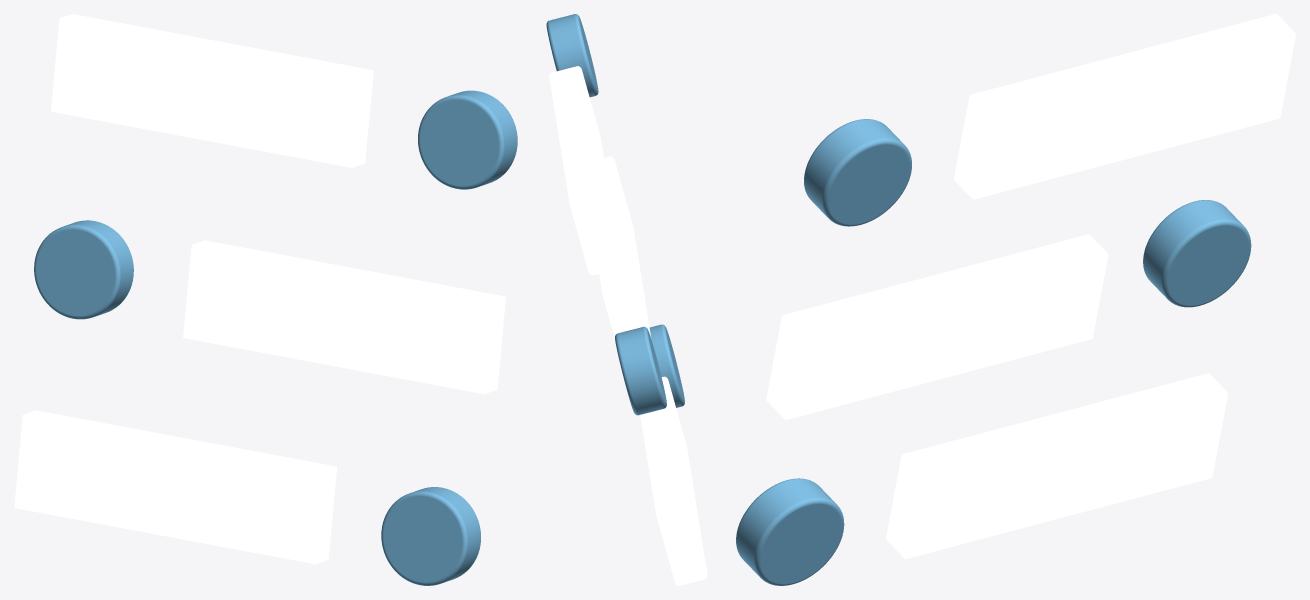
The picture shows the model from 3 angles, left to right: view 1: azimuth 30°, elevation 25°; view 2: azimuth 150°, elevation 25°; view 3: azimuth 270°, elevation 25°; orthographic projection. The views are drawn at different scales.
Parts seen in each view (by area): view 1: traço, bola; view 2: traço, bola; view 3: traço, bola.
Part boxes in pixels (left/top/right/bottom): traço: left=14, top=14, right=505, bottom=564; bola: left=34, top=90, right=517, bottom=585; traço: left=549, top=66, right=707, bottom=585; bola: left=546, top=14, right=684, bottom=415; traço: left=766, top=14, right=1295, bottom=558; bola: left=736, top=119, right=1251, bottom=585.
Bounding box in the file's own units: 4.51 × 5.81 × 5.83.
